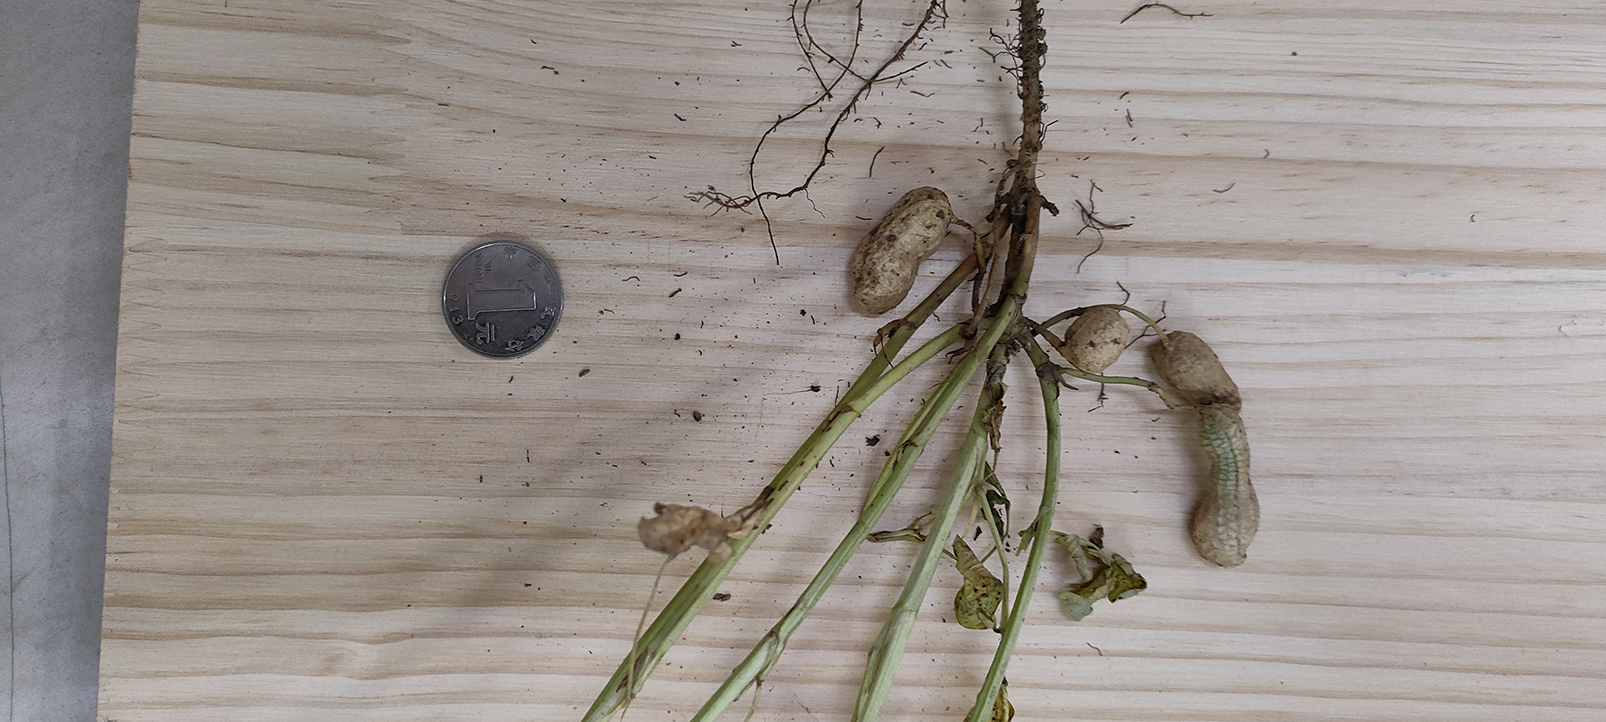h: (850, 186, 950, 318), (1192, 405, 1260, 566), (1152, 329, 1243, 409), (1063, 307, 1131, 376)
